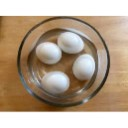begg: (44, 72, 70, 94), (35, 44, 61, 65), (76, 55, 96, 79)
